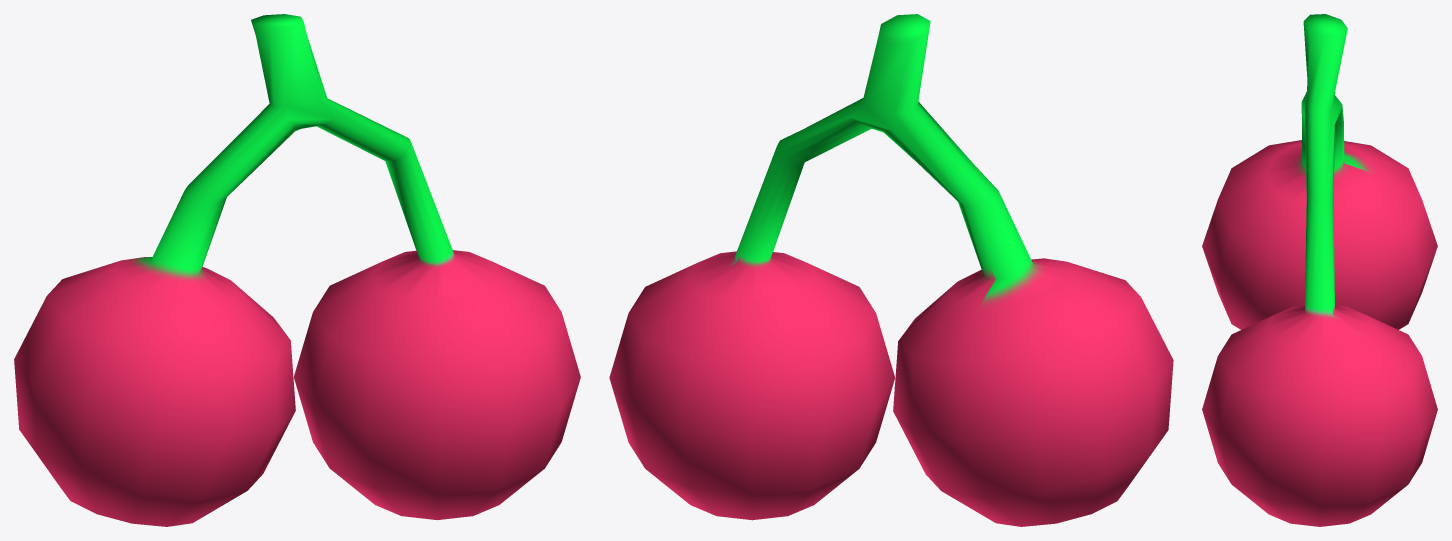
File: fruta_cereja.glb
3 renders of one model, left to right at view 1: azimuth 30°, elevation 25°; view 2: azimuth 150°, elevation 25°; view 3: azimuth 270°, elevation 25°, orthographic. The views are drawn at different scales.
Visible parts, largest first — view 1: CHERRY_21; view 2: CHERRY_21; view 3: CHERRY_21.
Part boxes in pixels (x1=…): CHERRY_21: x1=14, y1=14, x2=580, y2=526; CHERRY_21: x1=609, y1=14, x2=1173, y2=526; CHERRY_21: x1=1202, y1=14, x2=1437, y2=526.
Bounding box in the file's own units: 0.9471 × 0.9024 × 0.4461.
1 material, 1 textured.
